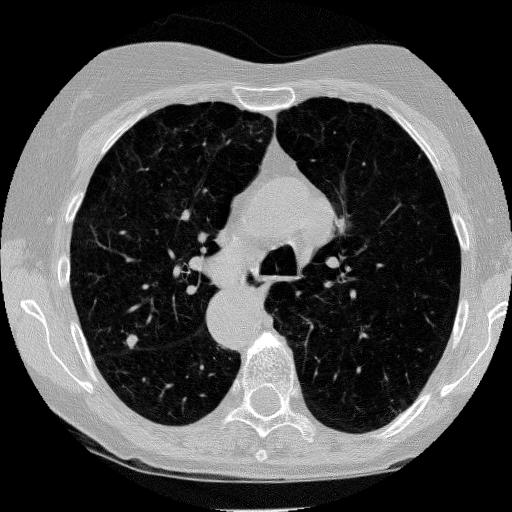nodule: (125, 331, 143, 349)
